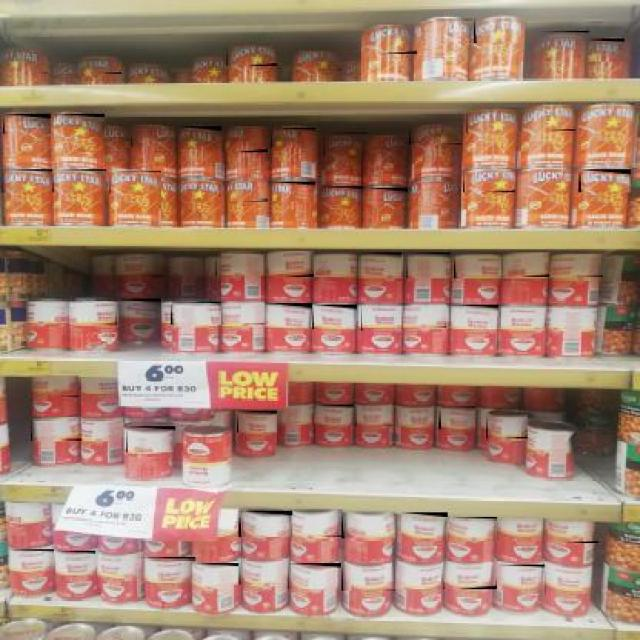Beans: (364, 24, 418, 56), (545, 564, 598, 596), (341, 511, 397, 540), (341, 563, 397, 592), (137, 558, 197, 585), (443, 562, 499, 590), (290, 509, 344, 538), (520, 105, 577, 132), (539, 31, 592, 60), (238, 512, 294, 539), (288, 563, 342, 591), (578, 103, 636, 129), (238, 559, 291, 587), (466, 108, 522, 134), (474, 16, 526, 44), (180, 462, 235, 488), (126, 426, 177, 454), (1, 169, 57, 194), (52, 169, 108, 194), (454, 253, 504, 281), (578, 170, 632, 195), (266, 252, 316, 279), (518, 171, 574, 195), (313, 252, 361, 280), (405, 252, 453, 280), (549, 254, 605, 278), (418, 19, 474, 43), (497, 564, 548, 590), (0, 48, 49, 75), (402, 513, 449, 541), (222, 126, 269, 154), (396, 564, 446, 590), (502, 252, 552, 278), (216, 301, 266, 327), (264, 303, 314, 329), (449, 517, 498, 543), (451, 304, 500, 330), (500, 304, 549, 330), (109, 171, 162, 195), (485, 412, 530, 440), (360, 302, 402, 332), (31, 417, 83, 441), (55, 114, 107, 138), (116, 252, 164, 278), (170, 302, 222, 326), (217, 252, 266, 277), (313, 304, 359, 330), (497, 519, 551, 541), (463, 172, 517, 194), (70, 302, 119, 326), (226, 46, 279, 68), (175, 127, 223, 151), (323, 132, 369, 157), (357, 252, 403, 277), (548, 522, 600, 544), (28, 376, 80, 398), (409, 125, 463, 146), (191, 563, 240, 586), (5, 550, 56, 572), (98, 554, 144, 578), (55, 551, 97, 577), (403, 305, 448, 329), (131, 126, 180, 148), (176, 180, 224, 202), (3, 115, 52, 136), (225, 180, 269, 203), (295, 52, 343, 73), (355, 403, 394, 428), (438, 406, 477, 431), (118, 298, 162, 320), (271, 128, 317, 149), (318, 187, 364, 208), (397, 404, 437, 428), (587, 39, 627, 63), (237, 411, 278, 434), (268, 182, 317, 201), (312, 405, 356, 426), (77, 56, 123, 76), (369, 135, 411, 154), (365, 188, 410, 205)
